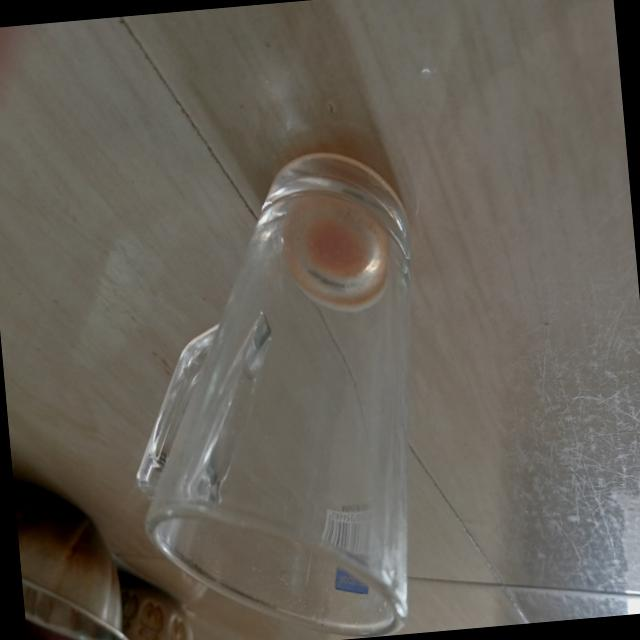glass-VX4N: (106, 131, 446, 640)
